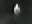person: (14, 5, 22, 17)
